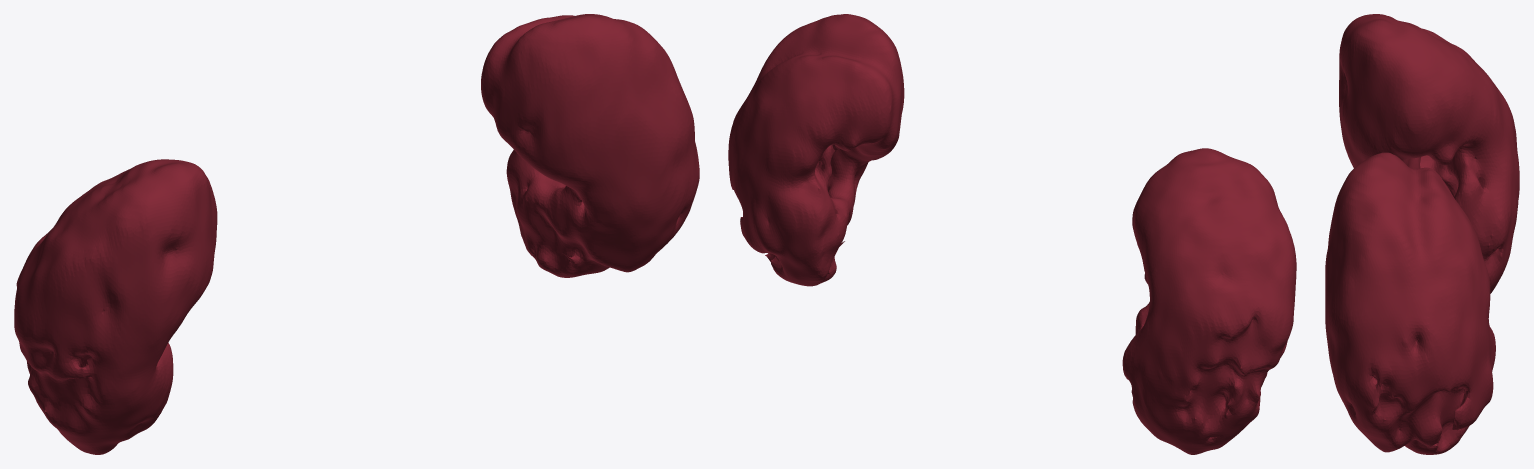
File: abdomen_kidneys.fbx
3 views of the same model, side by side, from view 1: azimuth 30°, elevation 25°; view 2: azimuth 150°, elevation 25°; view 3: azimuth 270°, elevation 25° (orthographic). The views are drawn at different scales.
Visible parts, largest first — view 1: abdomen_kidneys; view 2: abdomen_kidneys; view 3: abdomen_kidneys.
Boxes of the visible parts, x1=… form: abdomen_kidneys: x1=14, y1=14, x2=699, y2=454; abdomen_kidneys: x1=728, y1=14, x2=1296, y2=454; abdomen_kidneys: x1=1325, y1=14, x2=1519, y2=454.
Bounding box in the file's own units: 27.31 × 14.43 × 7.44.
